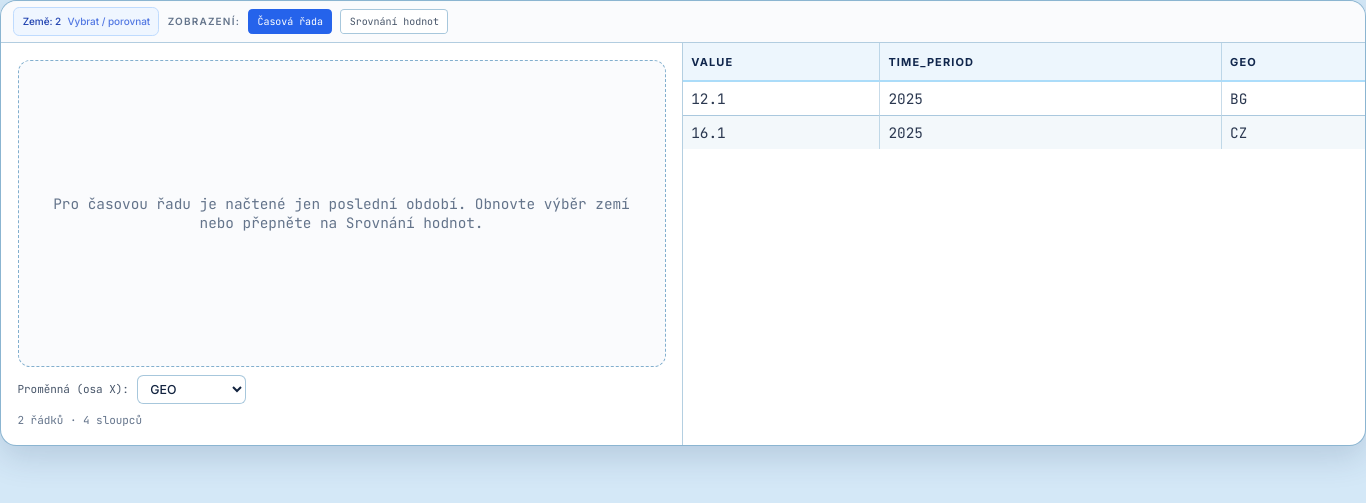
Scenario: SourcePreview Eurostat filter UX › keeps sparse multi-country snapshots out of the time-series chart mode
Check: the text with test id "catalog-time-series-history-missing" is shown, box [18,60,666,367]
Step 1. Click the button "Srovnání hodnot" → (394, 22), box [340,9,448,34]
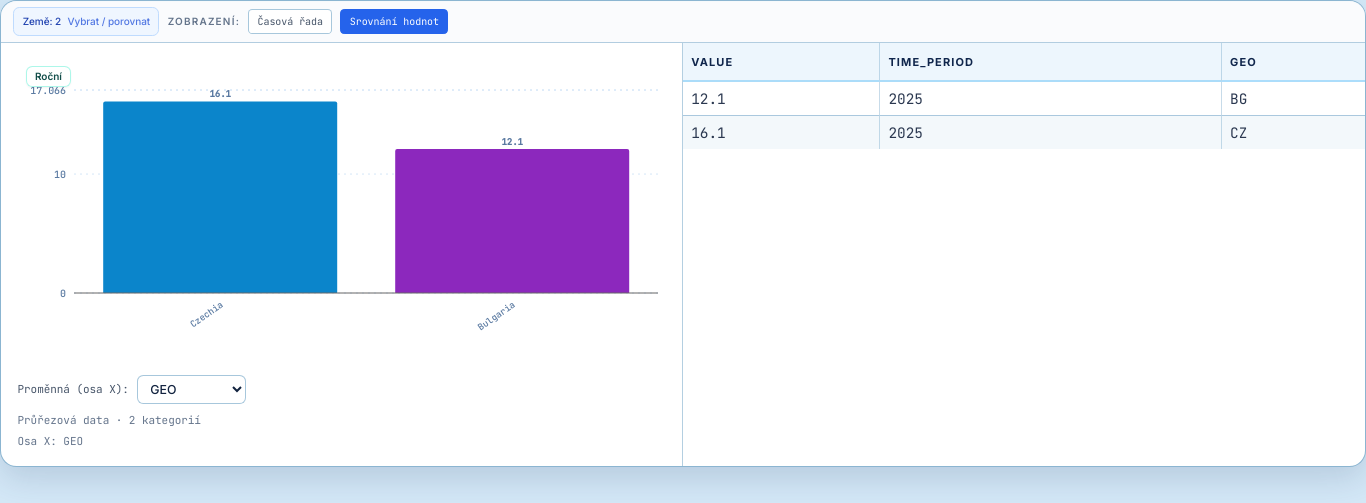
Check: the element with test id "catalog-latest-values-chart" is shown, box [18,60,666,367]
Check: the text with test id "catalog-time-series-history-missing" is gone
